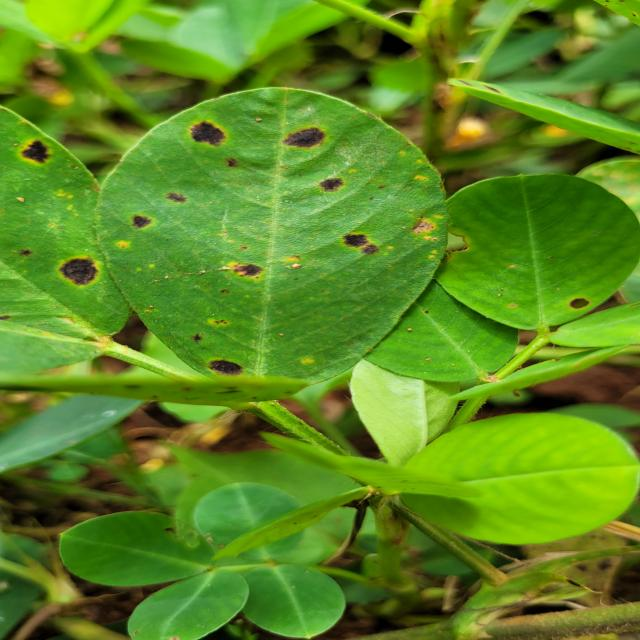Ground nut_tikka leaf spot: (91, 84, 456, 397)
